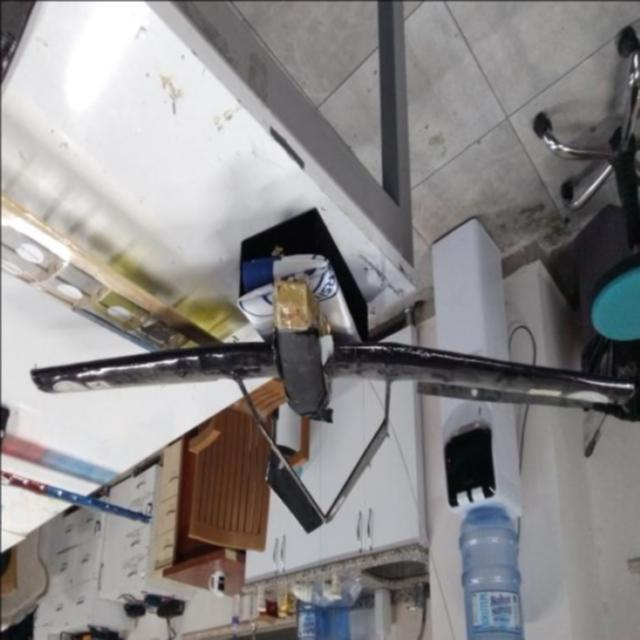plane: (25, 274, 640, 537), (0, 394, 161, 577)
